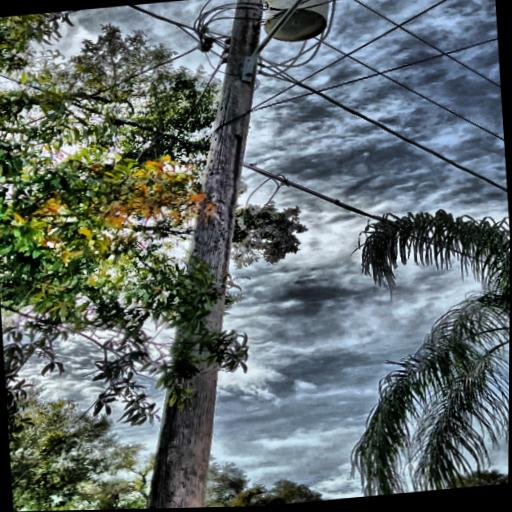pole: (51, 0, 325, 511)
street light: (227, 0, 393, 87)
transformer: (259, 0, 336, 45)
